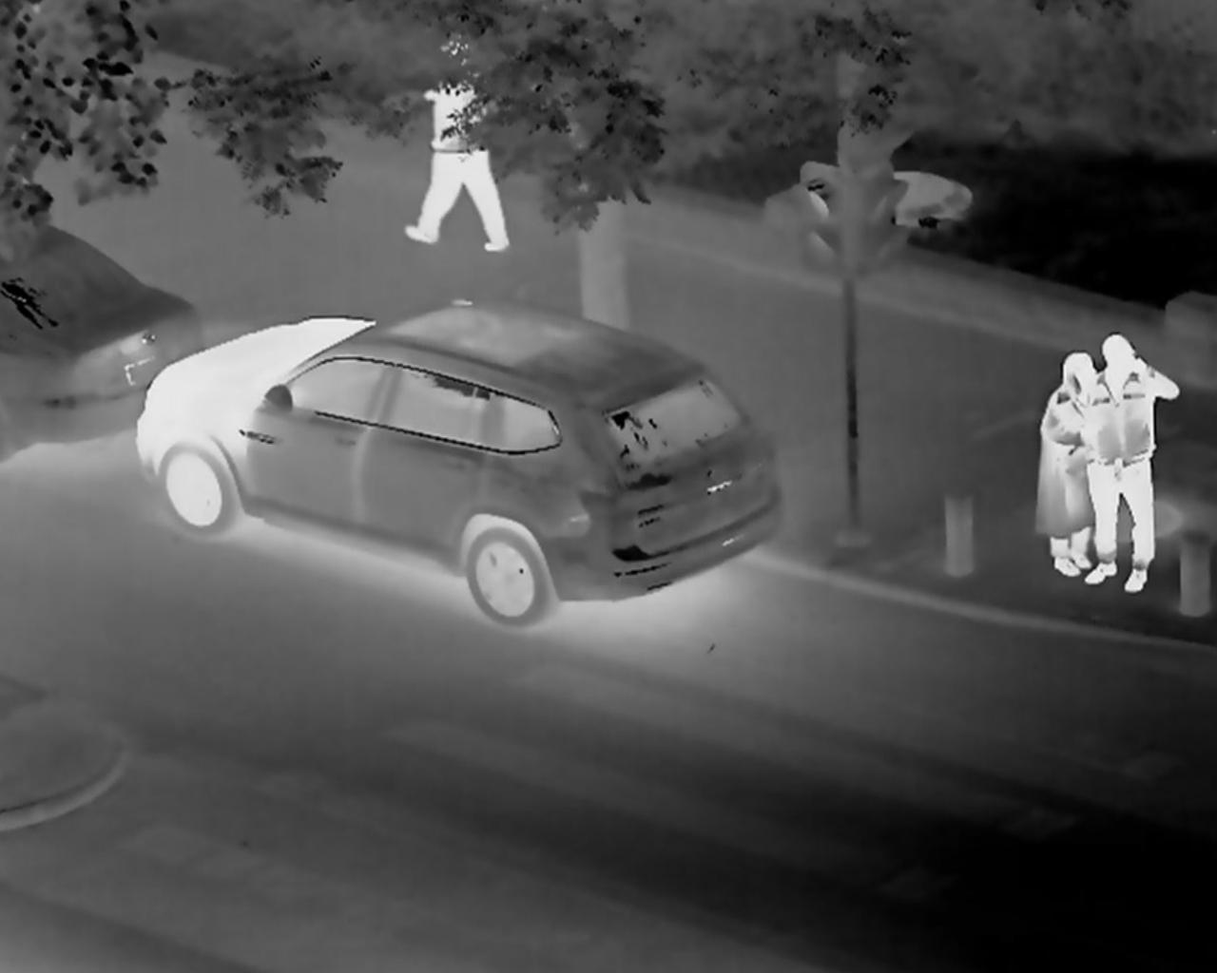person: (1093, 328, 1174, 601), (1033, 337, 1073, 595)
